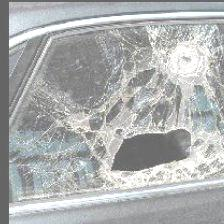glass_shatter: (14, 29, 223, 185)
